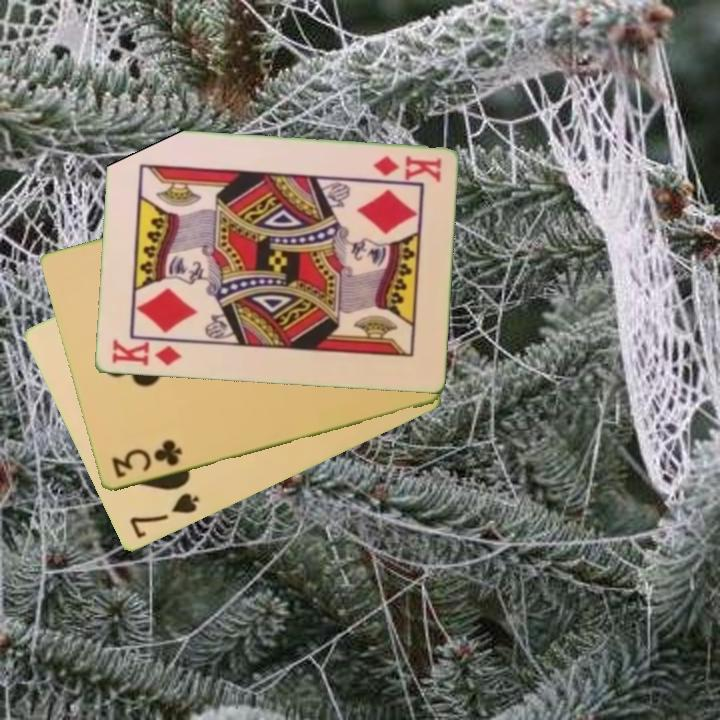3c: (108, 436, 185, 482)
7s: (125, 490, 202, 542)
Kd: (368, 152, 444, 185), (108, 336, 183, 369)
